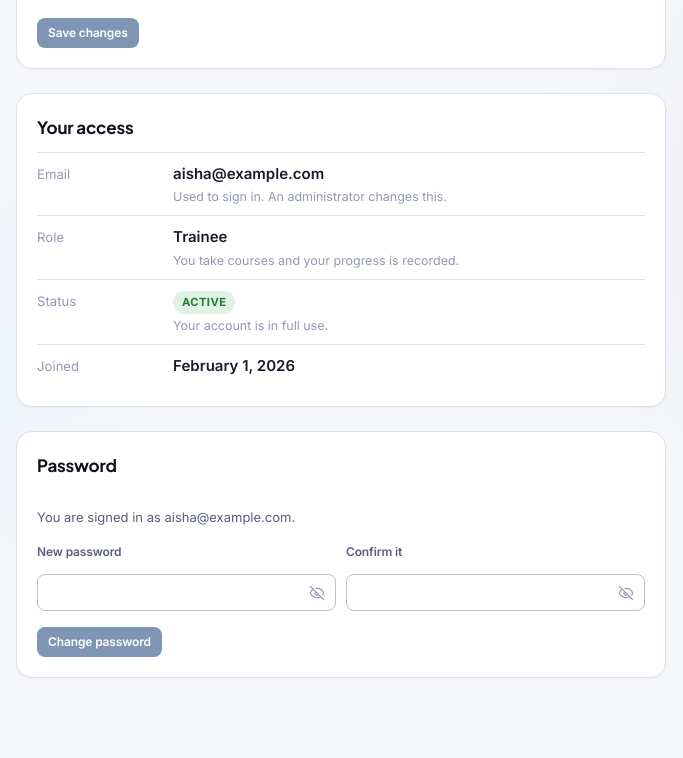
changing the password › says what a password change does not do
(page scrolled)
Type "correct-horse" into the password field labelled "New password" at (187, 593), box [37,574,336,611]
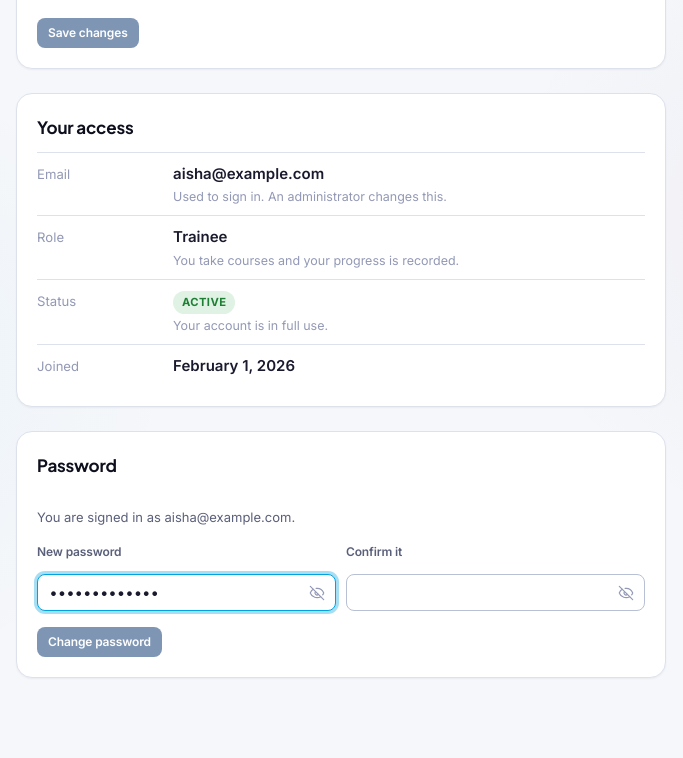
Type "correct-horse" into the password field labelled "Confirm it" at (495, 593), box [346,574,645,611]
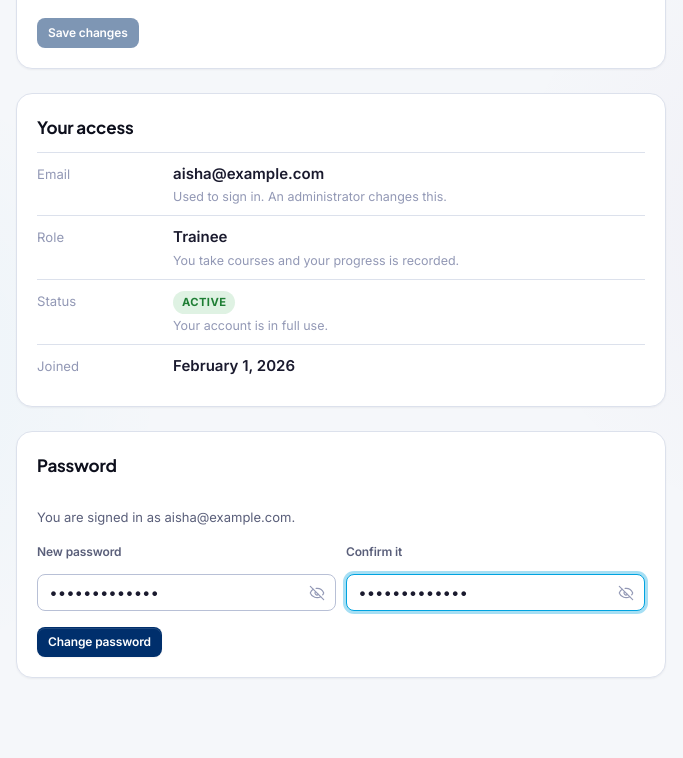
Expected: the text "stays signed in" is not shown
Click the button "Change password" at (100, 642), box [37,627,162,657]
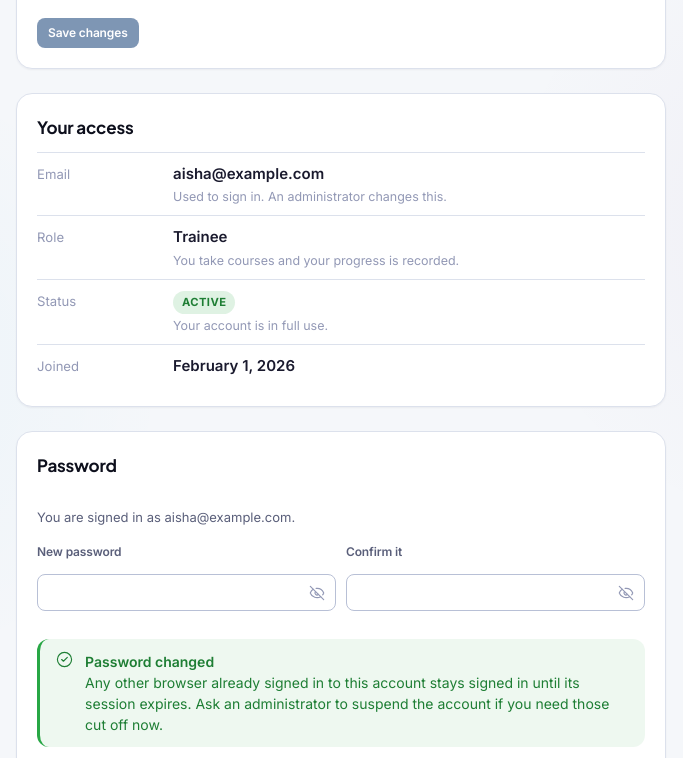
Result: the text "suspend the account" is shown at [85,674,609,733]
